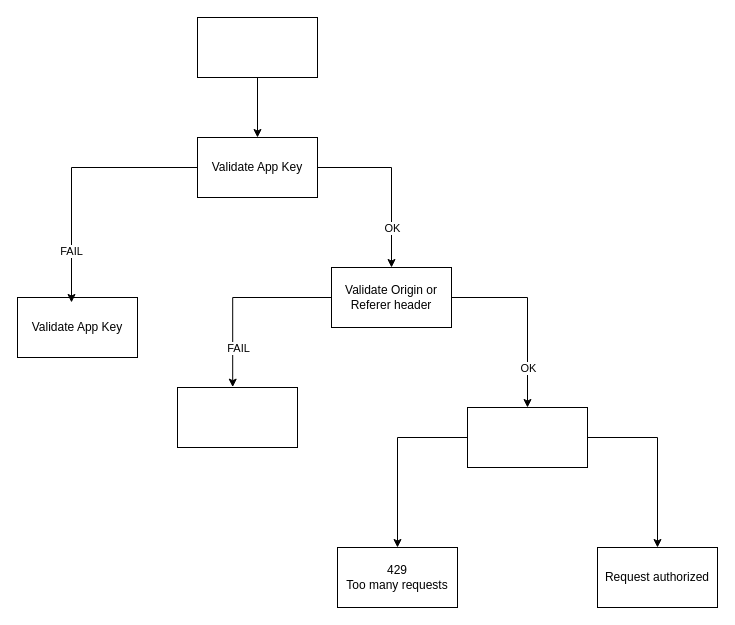
Some shapes in this 735 by 625 pixel diagram are drawn without their labels. The shapes that lost their labels are listed below. From the top down, each one's centre as x and y in pixels, then its label:
At [257,47]: "Request Received".
At [237,417]: "403 Origin not allowed".
At [527,437]: "Rate limiting per IP address".
